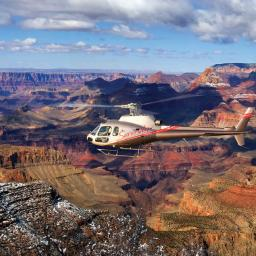helicopter: (66, 95, 256, 161)
